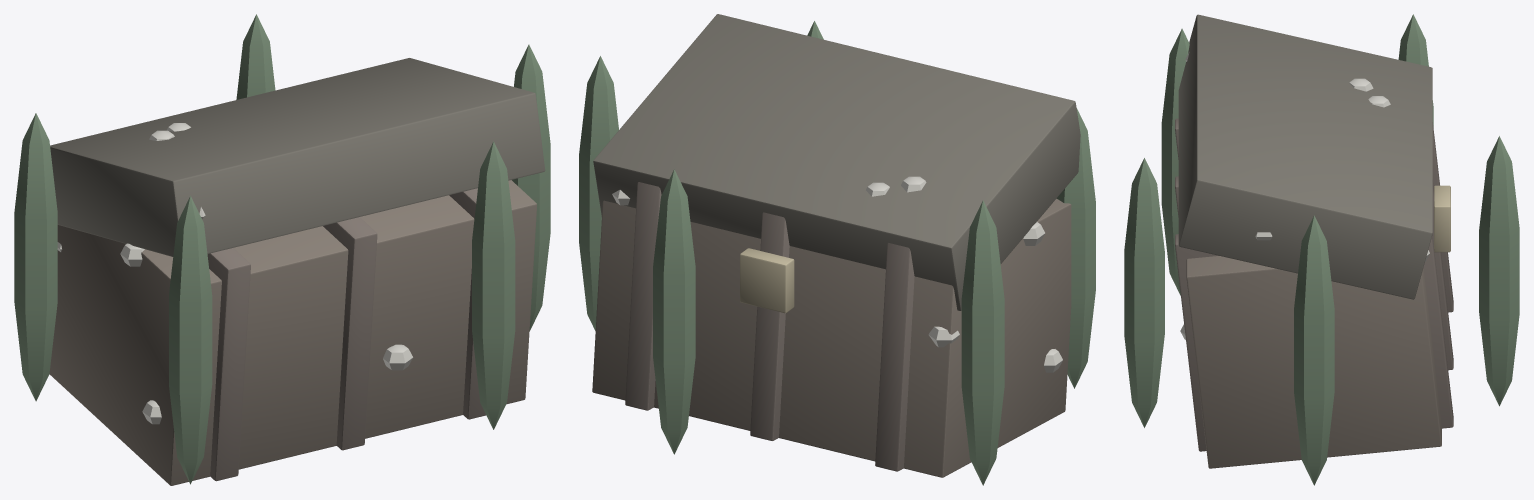
Rendered from salvage_chest.gltf.
3 views of the same model, side by side, from view 1: azimuth 30°, elevation 25°; view 2: azimuth 150°, elevation 25°; view 3: azimuth 270°, elevation 25° (orthographic). The views are drawn at different scales.
Visible parts, largest first — view 1: Body; view 2: Body; view 3: Body.
Boxes of the visible parts, x1,y1,x2,y2 form: Body: (14, 14, 550, 485); Body: (579, 14, 1095, 485); Body: (1124, 14, 1519, 485).
Bounding box in the file's own units: 1.2 × 0.7548 × 0.9263.
